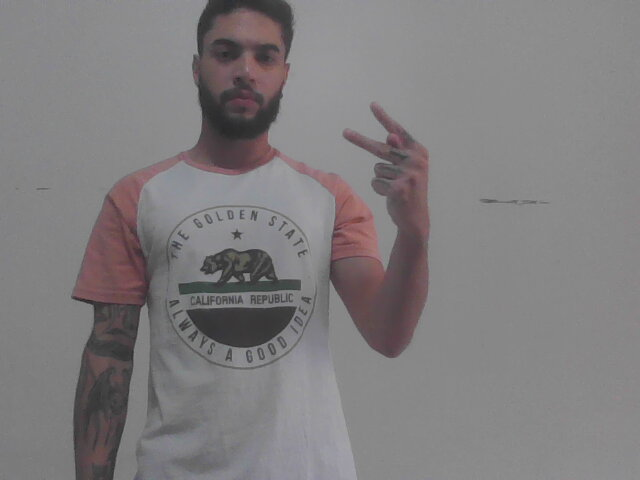h: (336, 95, 436, 240)
